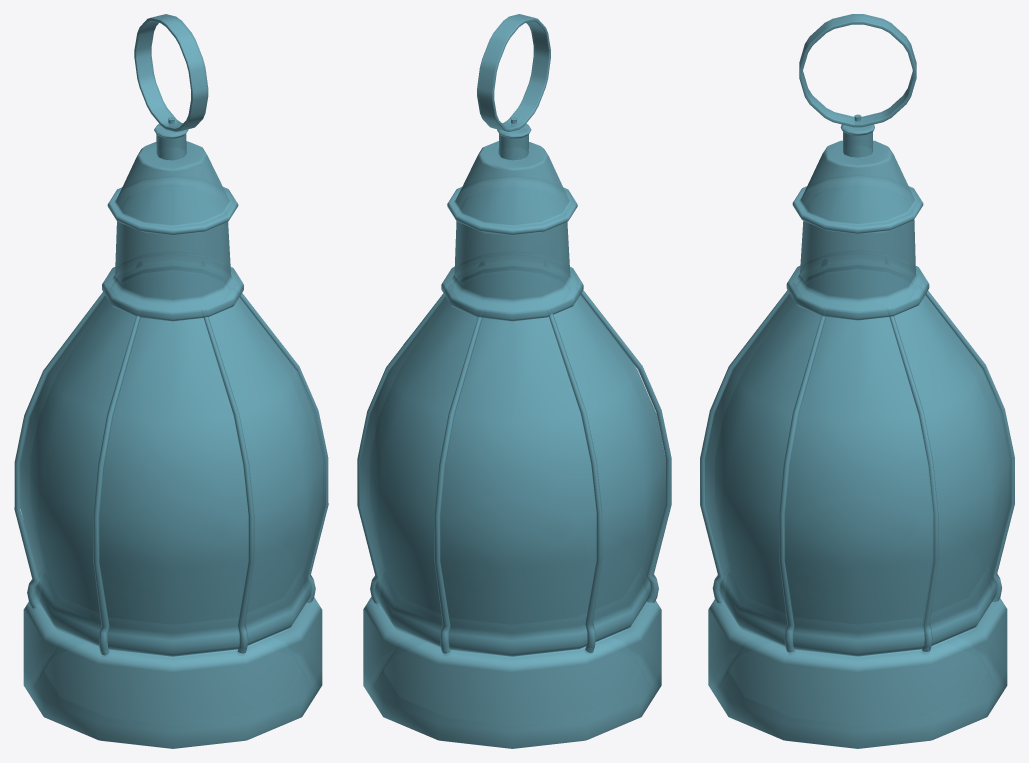
The model's file is SM_Lamp_01_Unity.fbx.
The picture shows the model from 3 angles, left to right: view 1: azimuth 30°, elevation 25°; view 2: azimuth 150°, elevation 25°; view 3: azimuth 270°, elevation 25°; orthographic projection.
Parts seen in each view (by area): view 1: SM_Lamp_01; view 2: SM_Lamp_01; view 3: SM_Lamp_01.
Boxes of the visible parts, x1,y1,x2,y2 form: SM_Lamp_01: [14, 14, 328, 748]; SM_Lamp_01: [357, 14, 671, 748]; SM_Lamp_01: [700, 14, 1014, 748].
Bounding box in the file's own units: 16.48 × 39.56 × 16.85.
